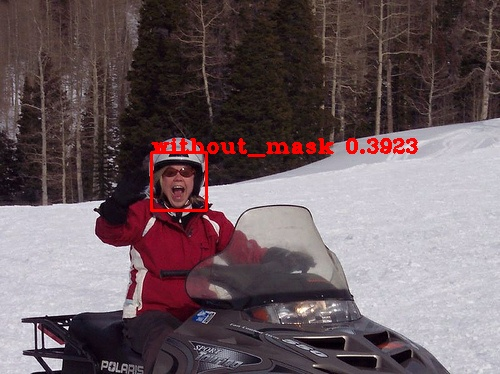without_mask: (150, 155, 206, 213)
